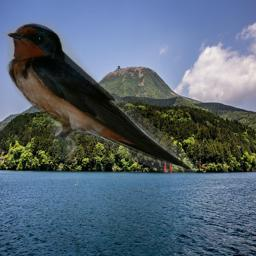Swallow: (2, 20, 196, 174)
